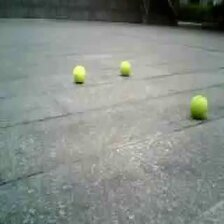tennis: (188, 95, 209, 119), (72, 66, 86, 82), (119, 61, 131, 75)
